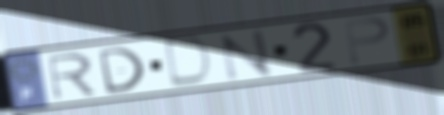2: (291, 21, 338, 74)
D: (164, 34, 216, 89), (95, 45, 148, 97)
N: (216, 27, 277, 83)
P: (340, 15, 393, 68)
R: (43, 51, 100, 103)
